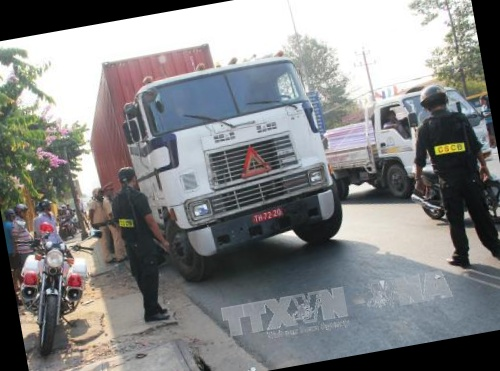plate: (250, 203, 279, 227)
